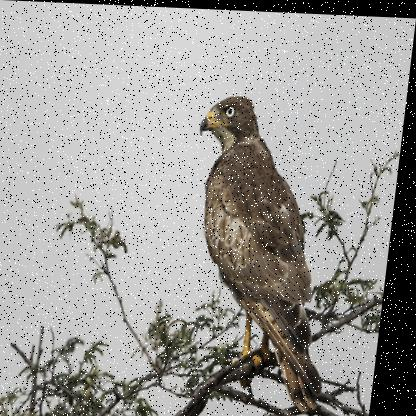Burung: (173, 83, 364, 412)
